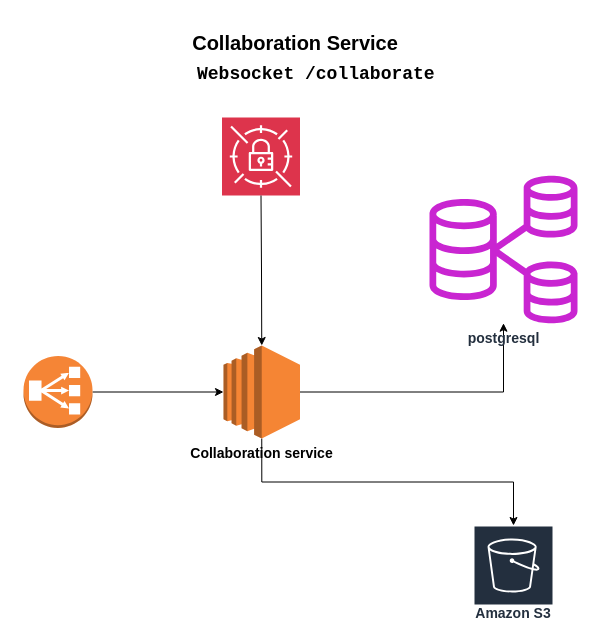
This 595x643 diagram has some shape labels left out. Here are the shapes that lost their labels. From the top down, the centre of each, then its label:
At [260,156]: "AWS Secret Manager".
At [57,391]: "API gateway".
